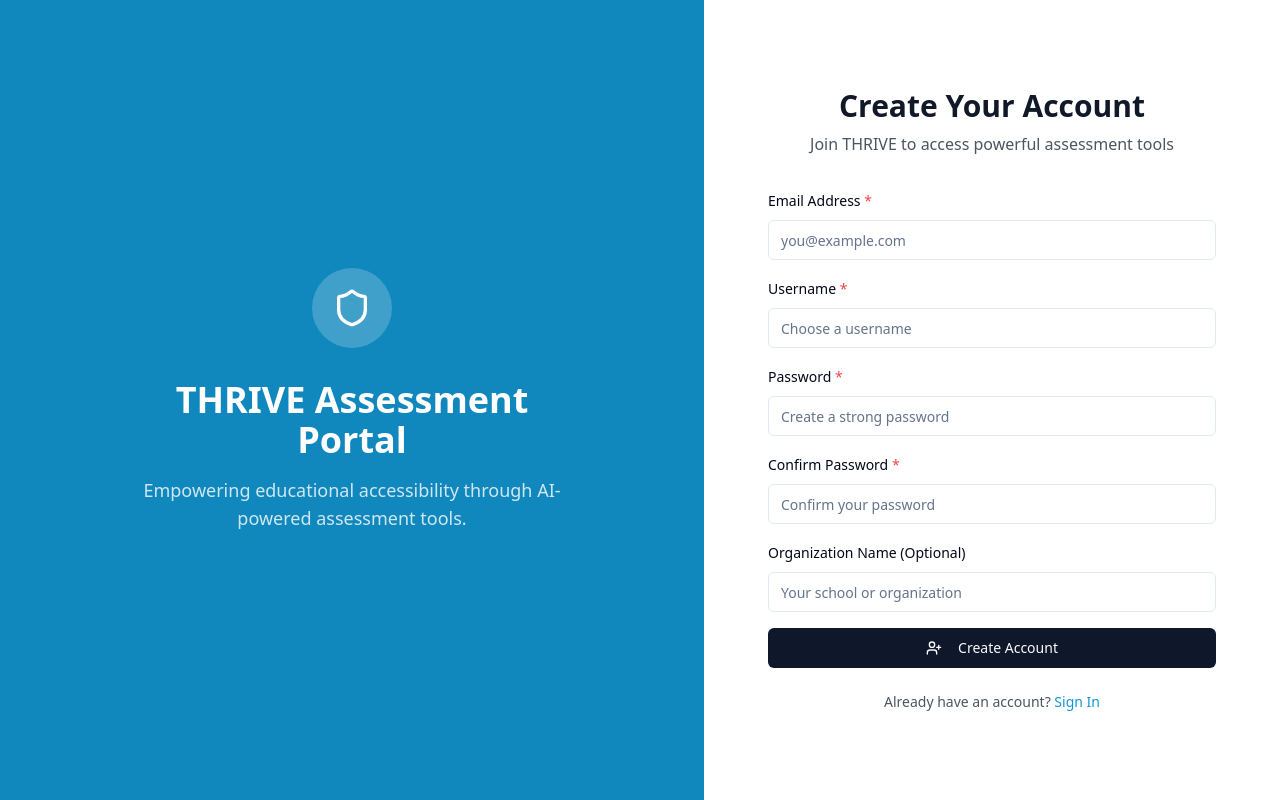
Test case: Registration Components › RegistrationPage › validates required fields and shows error when fields are empty
This screenshot has width=1280, height=800.
Click the button with test id "button-create-account": click(992, 648) [768, 628, 1216, 668]
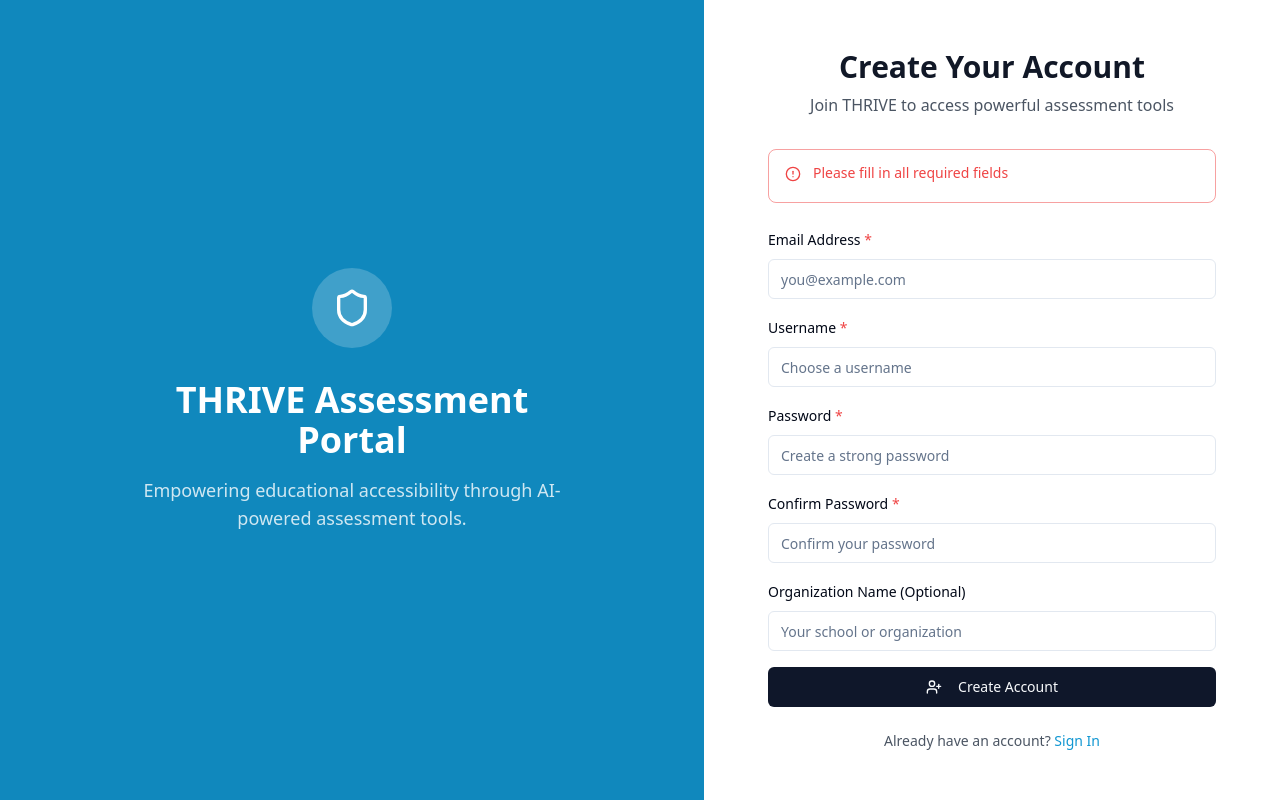
Check: the text "Please fill in all required fields" is shown, box [813, 163, 1008, 182]
